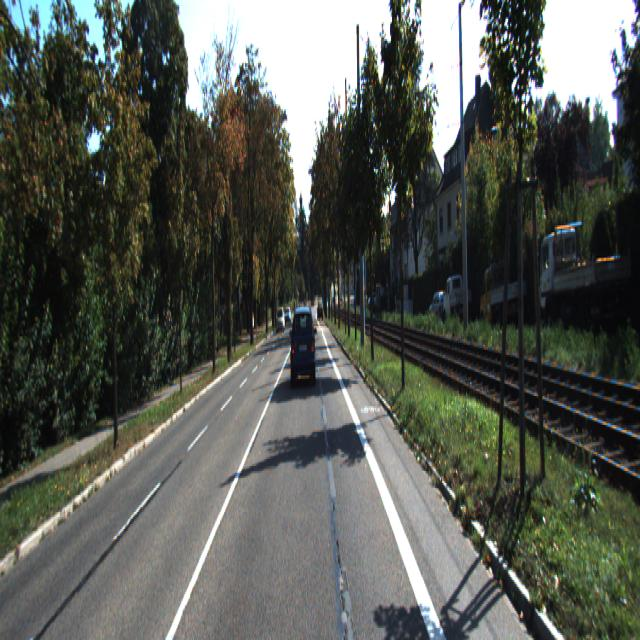Car: (290, 304, 316, 388), (430, 290, 451, 323), (276, 307, 285, 334)
Truck: (539, 209, 633, 334)
Van: (480, 259, 528, 331), (443, 274, 471, 322)
